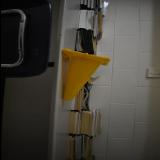cone: (62, 48, 110, 100)
